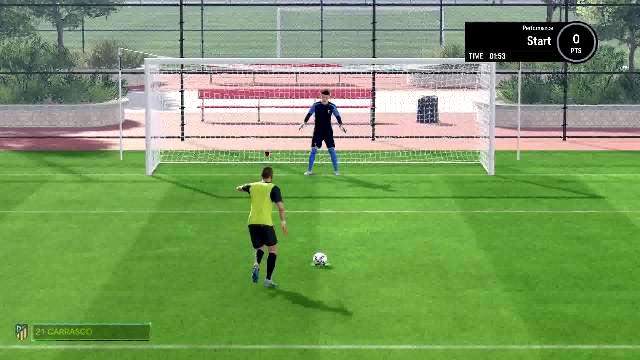bottom-left: (154, 125, 260, 173)
bottom-right: (375, 125, 487, 175)
center-down: (262, 126, 372, 174)
center-up: (262, 66, 372, 122)
circle: (312, 263, 330, 265)
football: (312, 250, 330, 266)
goalkeeper: (302, 90, 348, 178)
player: (235, 164, 287, 292)
top-left: (154, 66, 260, 122)
top-right: (374, 68, 486, 122)
